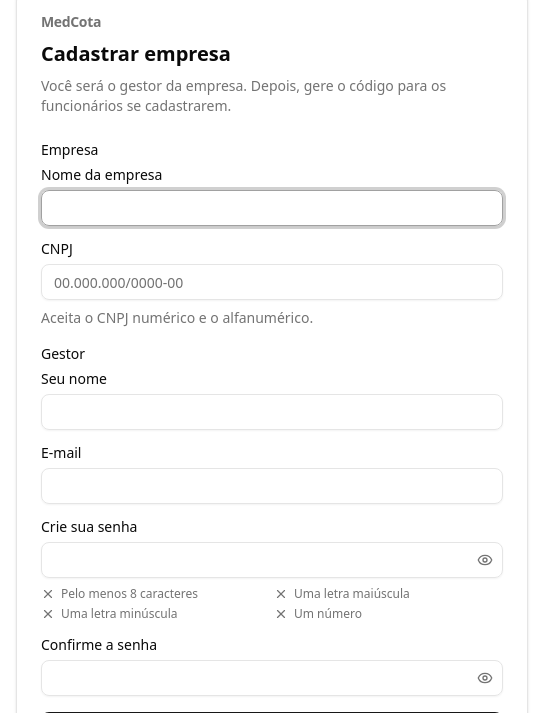
Test: Cadastro de empresa › valida CNPJ e confirmação de senha no cliente
In the field labelled "CNPJ": (272, 282) [41, 264, 503, 300], type "11.222.333/0001-80"
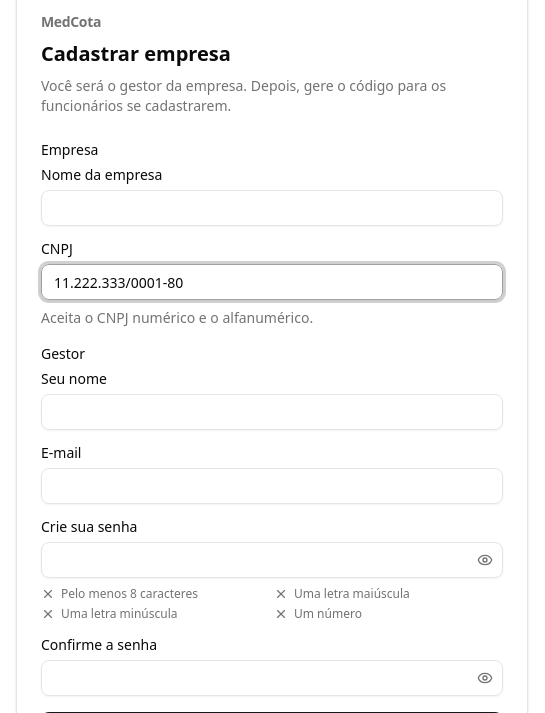
In the password field labelled "Crie sua senha": (272, 560) [41, 542, 503, 578], type "Senha-forte-1"
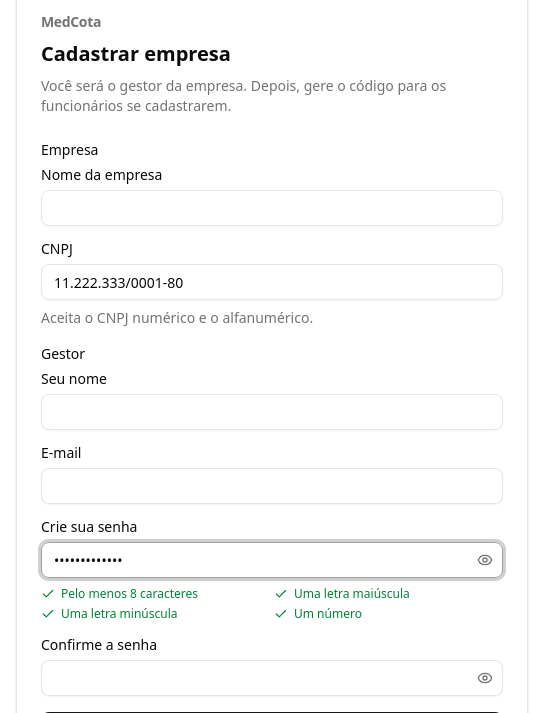
In the password field labelled "Confirme a senha": (272, 678) [41, 660, 503, 696], type "Senha-forte-2"
(page scrolled)
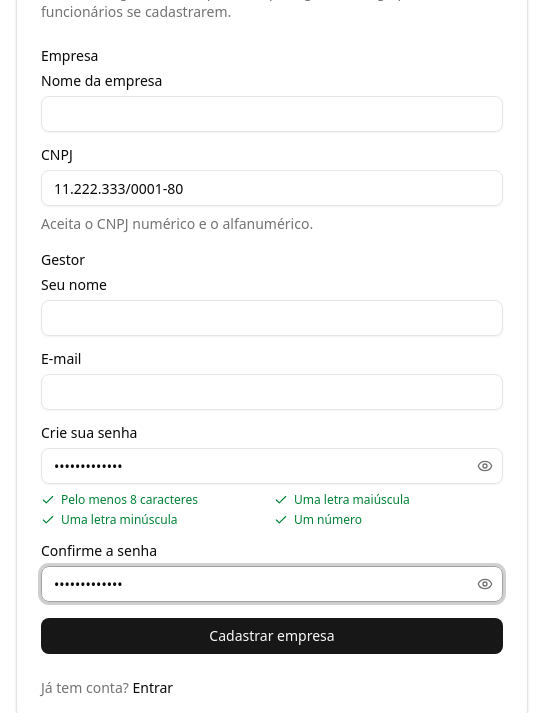
Click the button "Cadastrar empresa": (272, 636) [41, 618, 503, 654]
(page scrolled)
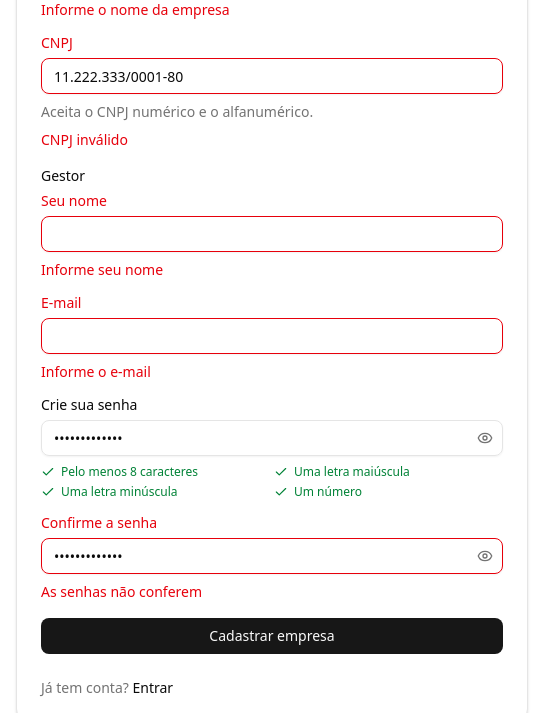
Result: the text "CNPJ inválido" is shown at [41, 130, 128, 149]
Result: the text "As senhas não conferem" is shown at [41, 582, 202, 601]
